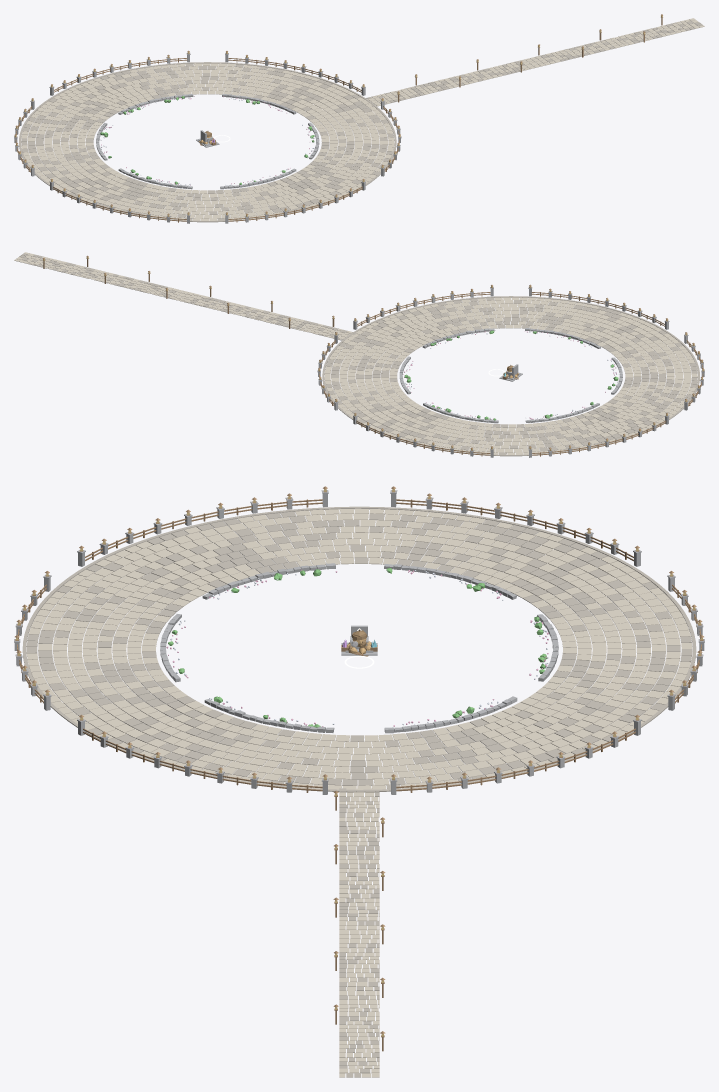
Rendered from PTF_Lobby.fbx.
3 renders of one model, top to bottom at view 1: azimuth 30°, elevation 25°; view 2: azimuth 150°, elevation 25°; view 3: azimuth 270°, elevation 25°, orthographic. The views are drawn at different scales.
Visible parts, largest first — view 1: LobbyPlaza_Stone, LobbyPlaza_StoneDark, LobbyPath_Stone, LobbyFence_Wood, LobbyFence_Stone, LobbyGarden_Stone, LobbyPath_StoneDark; view 2: LobbyPlaza_Stone, LobbyPlaza_StoneDark, LobbyPath_Stone, LobbyFence_Wood, LobbyFence_Stone, LobbyGarden_Stone, LobbyPath_StoneDark; view 3: LobbyPlaza_Stone, LobbyPlaza_StoneDark, LobbyPath_Stone, LobbyFence_Wood, LobbyFence_Stone, LobbyGarden_Stone, LobbyPath_StoneDark.
Boxes of the visible parts, bbox=[...] form: LobbyPlaza_Stone: bbox=[21, 63, 394, 220]; LobbyPlaza_StoneDark: bbox=[19, 62, 396, 222]; LobbyPath_Stone: bbox=[363, 18, 704, 106]; LobbyFence_Wood: bbox=[14, 50, 400, 222]; LobbyFence_Stone: bbox=[14, 52, 401, 223]; LobbyGarden_Stone: bbox=[96, 94, 319, 189]; LobbyPath_StoneDark: bbox=[366, 21, 702, 107]; LobbyPlaza_Stone: bbox=[324, 297, 697, 454]; LobbyPlaza_StoneDark: bbox=[322, 296, 699, 456]; LobbyPath_Stone: bbox=[14, 252, 354, 340]; LobbyFence_Wood: bbox=[318, 284, 704, 456]; LobbyFence_Stone: bbox=[317, 287, 704, 457]; LobbyGarden_Stone: bbox=[399, 328, 622, 423]; LobbyPath_StoneDark: bbox=[19, 253, 356, 340]; LobbyPlaza_Stone: bbox=[27, 508, 692, 789]; LobbyPlaza_StoneDark: bbox=[22, 506, 696, 792]; LobbyPath_Stone: bbox=[339, 788, 379, 1077]; LobbyFence_Wood: bbox=[15, 486, 703, 792]; LobbyFence_Stone: bbox=[14, 490, 704, 794]; LobbyGarden_Stone: bbox=[160, 563, 558, 733]; LobbyPath_StoneDark: bbox=[339, 788, 379, 1077].
Size of the model in its own units: 594 by 11.24 by 303.
